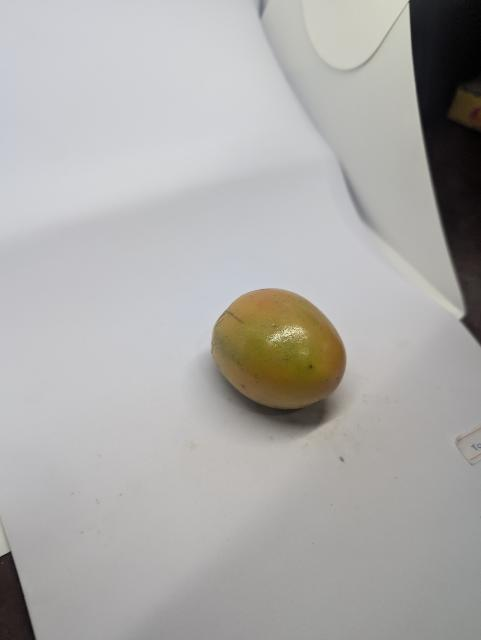breaker: (212, 289, 347, 409)
